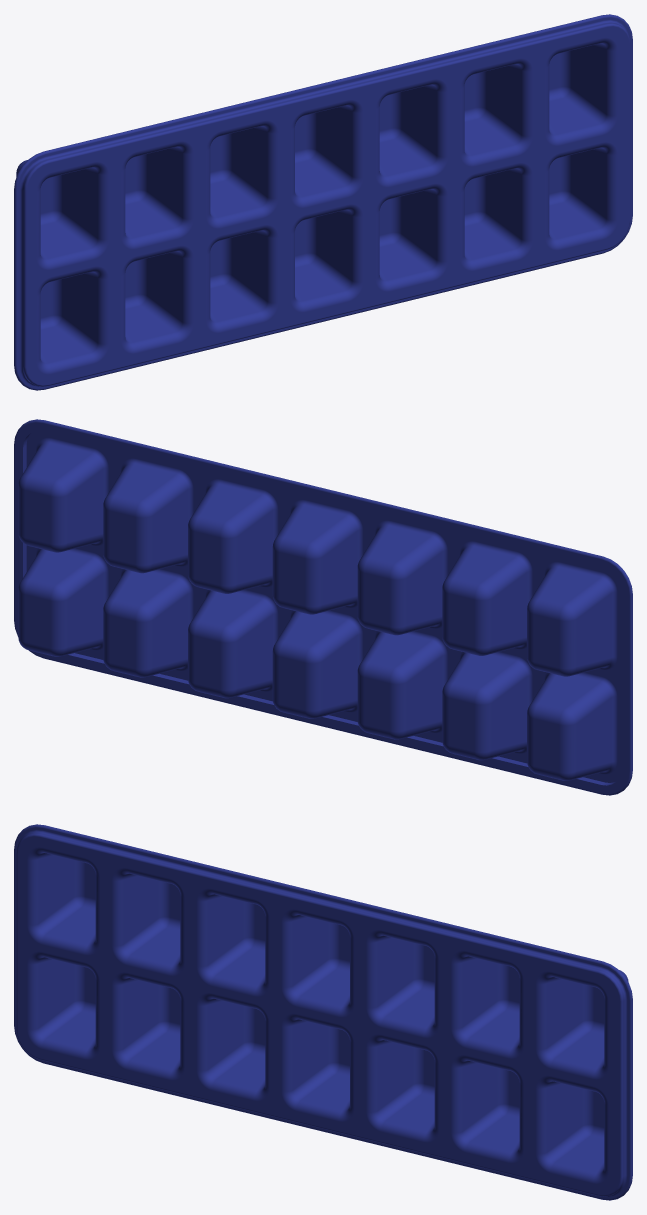
The picture shows the model from 3 angles, top to bottom: view 1: azimuth 30°, elevation 25°; view 2: azimuth 150°, elevation 25°; view 3: azimuth 330°, elevation 25°; orthographic projection.
Parts seen in each view (by area): view 1: Body1; view 2: Body1; view 3: Body1.
Part boxes in pixels (left/top/right/bottom): Body1: left=14, top=14, right=632, bottom=390; Body1: left=14, top=419, right=632, bottom=795; Body1: left=14, top=824, right=632, bottom=1200.
Size of the model in its own units: 31 by 11.4 by 3.2.
